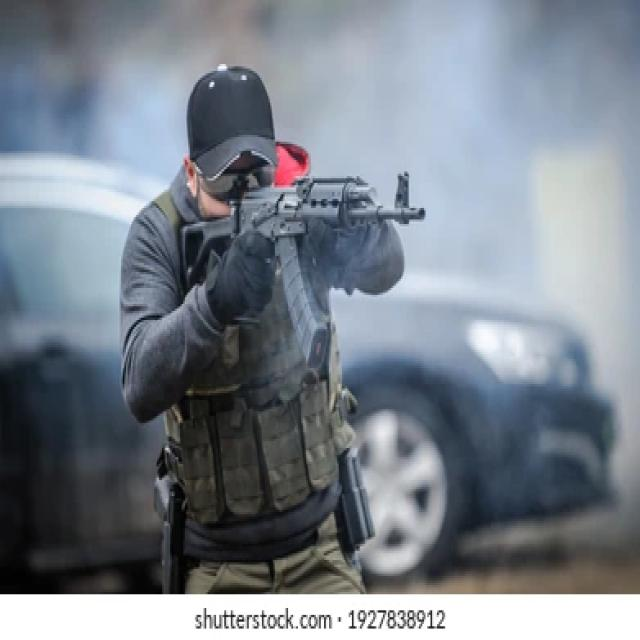soldier: (121, 66, 430, 587)
